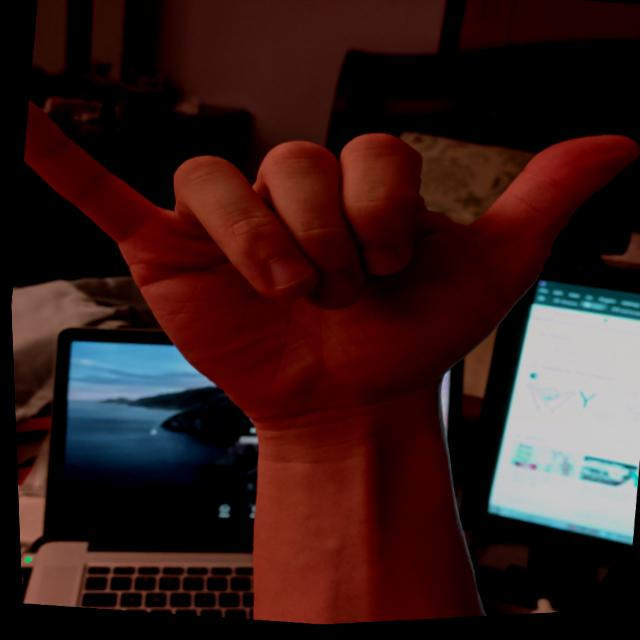Y: (2, 60, 639, 487)
